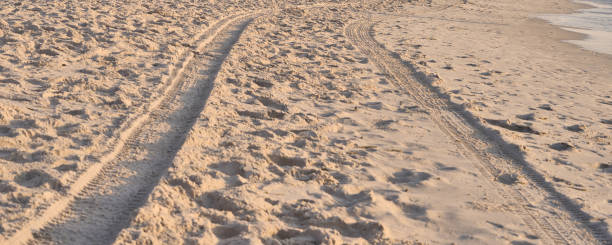vehicle_track: (0, 12, 260, 243), (345, 21, 611, 244)
